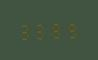eight: (48, 20, 62, 39)
nine: (63, 19, 77, 38)
three: (33, 20, 47, 40), (18, 21, 32, 40)
